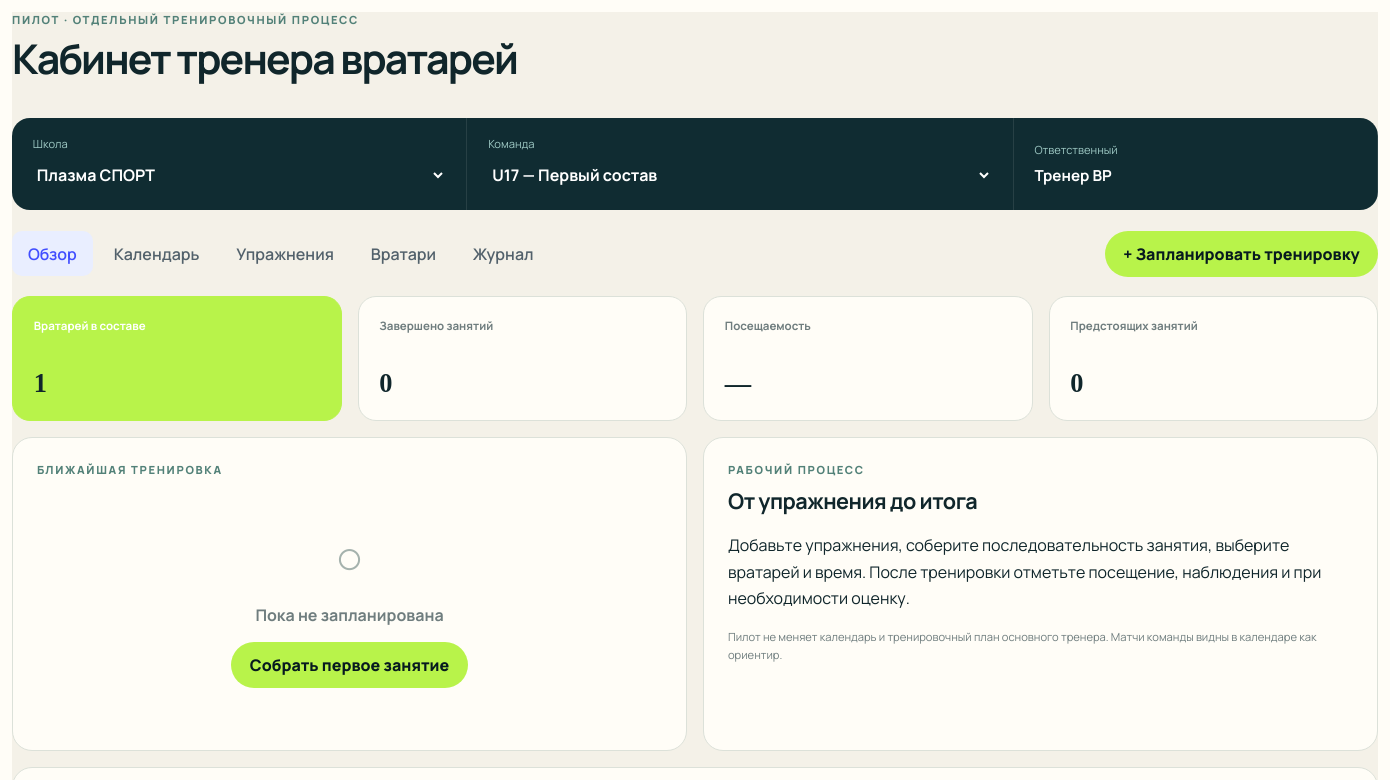
goalkeeper cabinet › switches only between appointed schools and fetches the selected workspace
The image size is (1390, 780).
Expected: the heading "От упражнения до итога" is shown, [728, 486, 977, 515]
Step 1. Select "Динамо" in the dropdown named "Школа тренера вратарей" → (239, 175), box [33, 159, 446, 192]
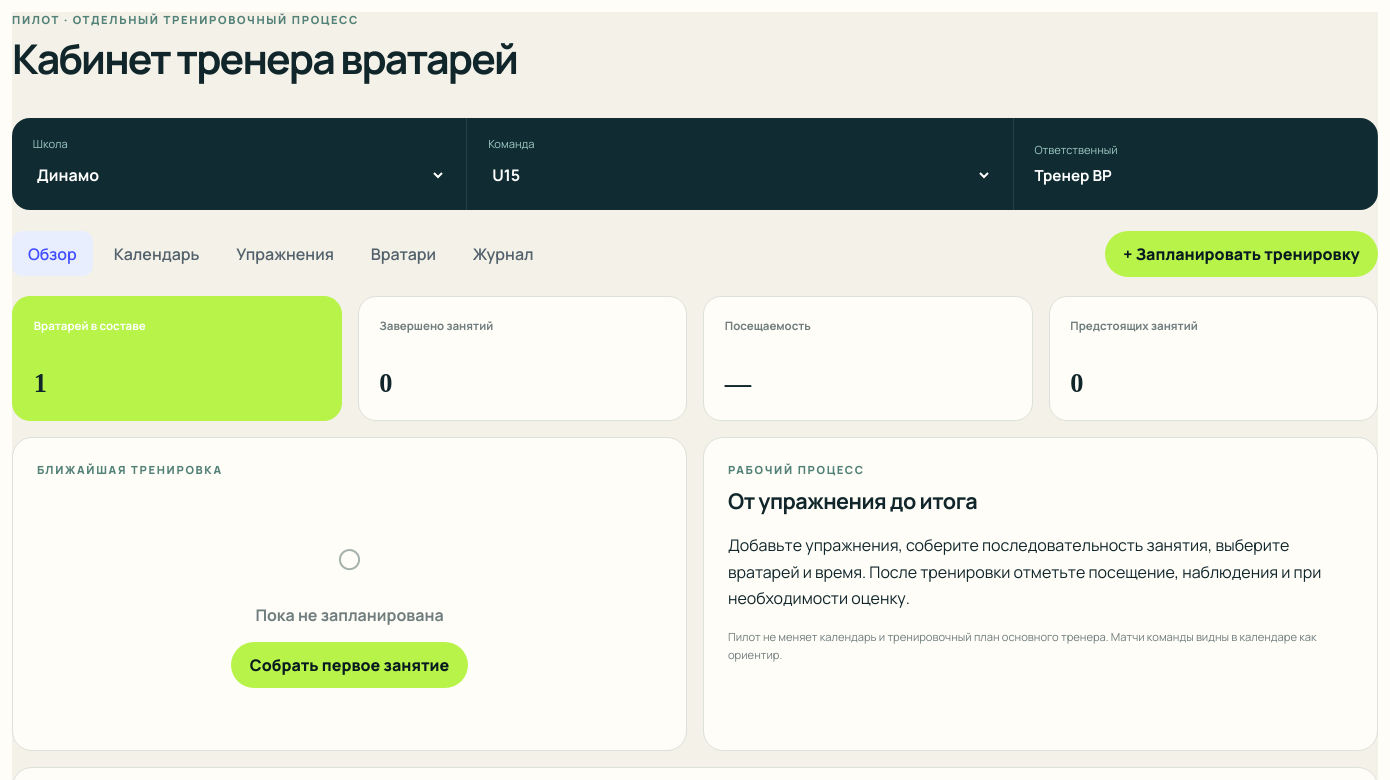
Expected: the option "U17 — Первый состав" is not shown
Now the dropdown named "Команда тренера вратарей" shows "U15", box [488, 159, 992, 192]
